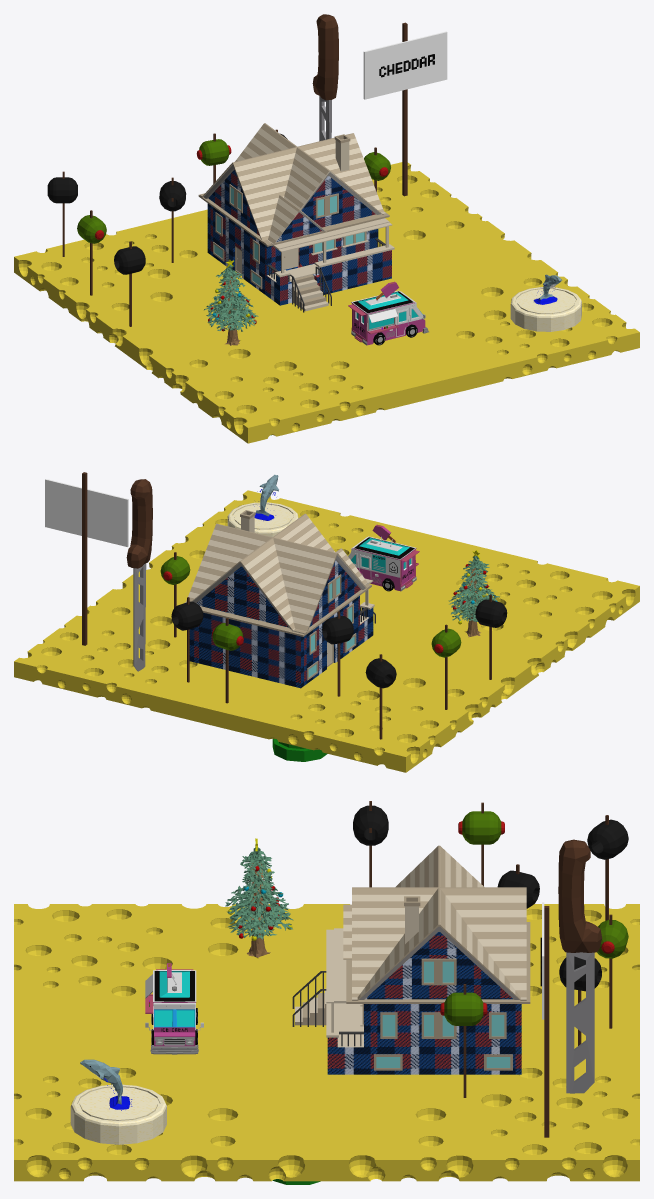
3 views of the same model, one above another, from view 1: azimuth 30°, elevation 25°; view 2: azimuth 150°, elevation 25°; view 3: azimuth 270°, elevation 25° (orthographic). The views are drawn at different scales.
Parts seen in each view (by area): view 1: Cube.022, Cube.171, Cube.023, VEHICLES_ICE_CREAM_TRUCK, Cylinder.016, Cube.024, OBJRANDOM_CHRISTMAS_TREE, Sphere.017, Sphere.016, Sphere.020, Sphere.018, Sphere.022 (+1 smaller); view 2: Cube.022, Cube.171, Cube.023, Cube.024, VEHICLES_ICE_CREAM_TRUCK, OBJRANDOM_CHRISTMAS_TREE, Cylinder.016, Sphere.020, Sphere.016, Sphere.022, Sphere.017, Sphere.021 (+4 smaller); view 3: Cube.022, Cube.171, Cube.024, Cylinder.016, VEHICLES_ICE_CREAM_TRUCK, OBJRANDOM_CHRISTMAS_TREE, Cube.023, Sphere.019, Sphere.016, Sphere.018, Sphere.017, Sphere.022 (+3 smaller).
Part boxes in pixels (x1,y1,x2,y2): Cube.022: (14, 162, 639, 443); Cube.171: (198, 123, 394, 312); Cube.023: (363, 22, 447, 196); VEHICLES_ICE_CREAM_TRUCK: (348, 281, 428, 345); Cylinder.016: (510, 287, 581, 331); Cube.024: (312, 14, 338, 141); OBJRANDOM_CHRISTMAS_TREE: (204, 259, 258, 345); Sphere.017: (114, 241, 145, 326); Sphere.016: (47, 171, 77, 256); Sphere.020: (159, 177, 186, 262); Sphere.018: (77, 210, 106, 295); Sphere.022: (196, 133, 231, 183); Cube.022: (14, 490, 639, 772); Cube.171: (184, 510, 375, 688); Cube.023: (45, 472, 128, 645); Cube.024: (126, 479, 152, 671); VEHICLES_ICE_CREAM_TRUCK: (348, 524, 419, 591); OBJRANDOM_CHRISTMAS_TREE: (448, 550, 499, 637); Cylinder.016: (227, 502, 298, 536); Sphere.020: (322, 611, 353, 696); Sphere.016: (365, 654, 396, 739); Sphere.022: (212, 618, 243, 703); Sphere.017: (475, 594, 507, 679); Sphere.021: (171, 597, 203, 682); Cube.022: (14, 904, 639, 1181); Cube.171: (292, 845, 530, 1074); Cube.024: (558, 839, 602, 1093); Cylinder.016: (70, 1084, 166, 1144); VEHICLES_ICE_CREAM_TRUCK: (145, 963, 203, 1054); OBJRANDOM_CHRISTMAS_TREE: (225, 838, 293, 958); Cube.023: (540, 902, 549, 1137); Sphere.019: (440, 984, 487, 1097); Sphere.016: (587, 815, 628, 920); Sphere.018: (458, 802, 504, 885); Sphere.017: (353, 801, 388, 887); Sphere.022: (597, 914, 628, 1028).
Bounding box in the file's own units: 3917 × 2590 × 4000.
42 materials, 4 textured.
